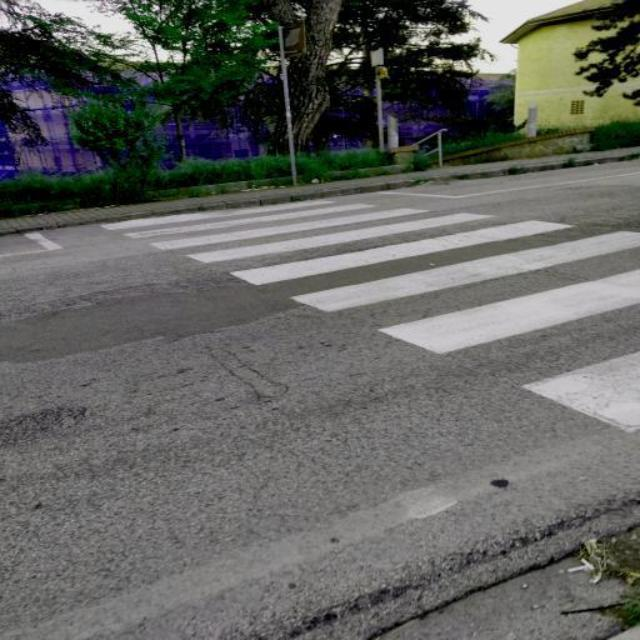sidewalk: (96, 192, 638, 438)
